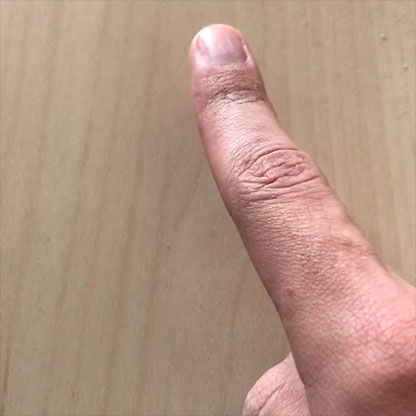fingertip: (170, 22, 276, 96)
